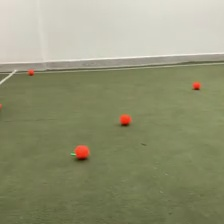ball: (73, 143, 90, 160), (119, 111, 131, 126), (192, 80, 200, 90), (28, 67, 34, 75)
